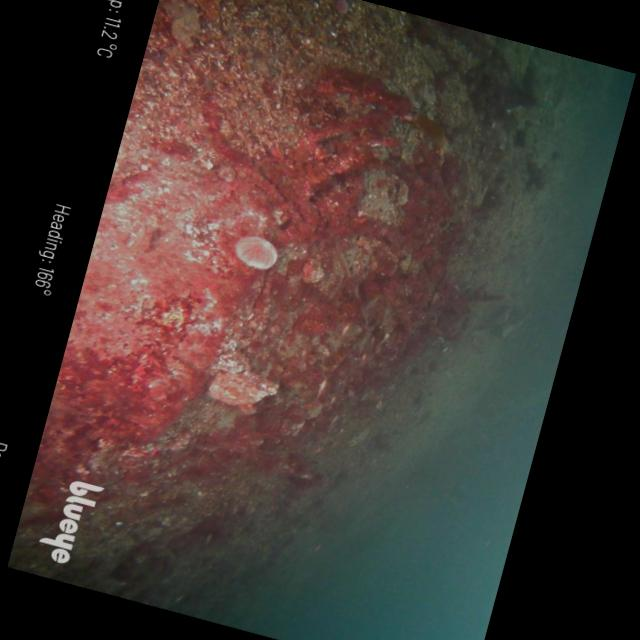Deniz Kestanesi: (229, 230, 280, 272)
